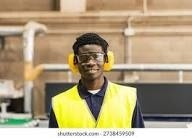safety_goggles: (72, 50, 110, 65)
